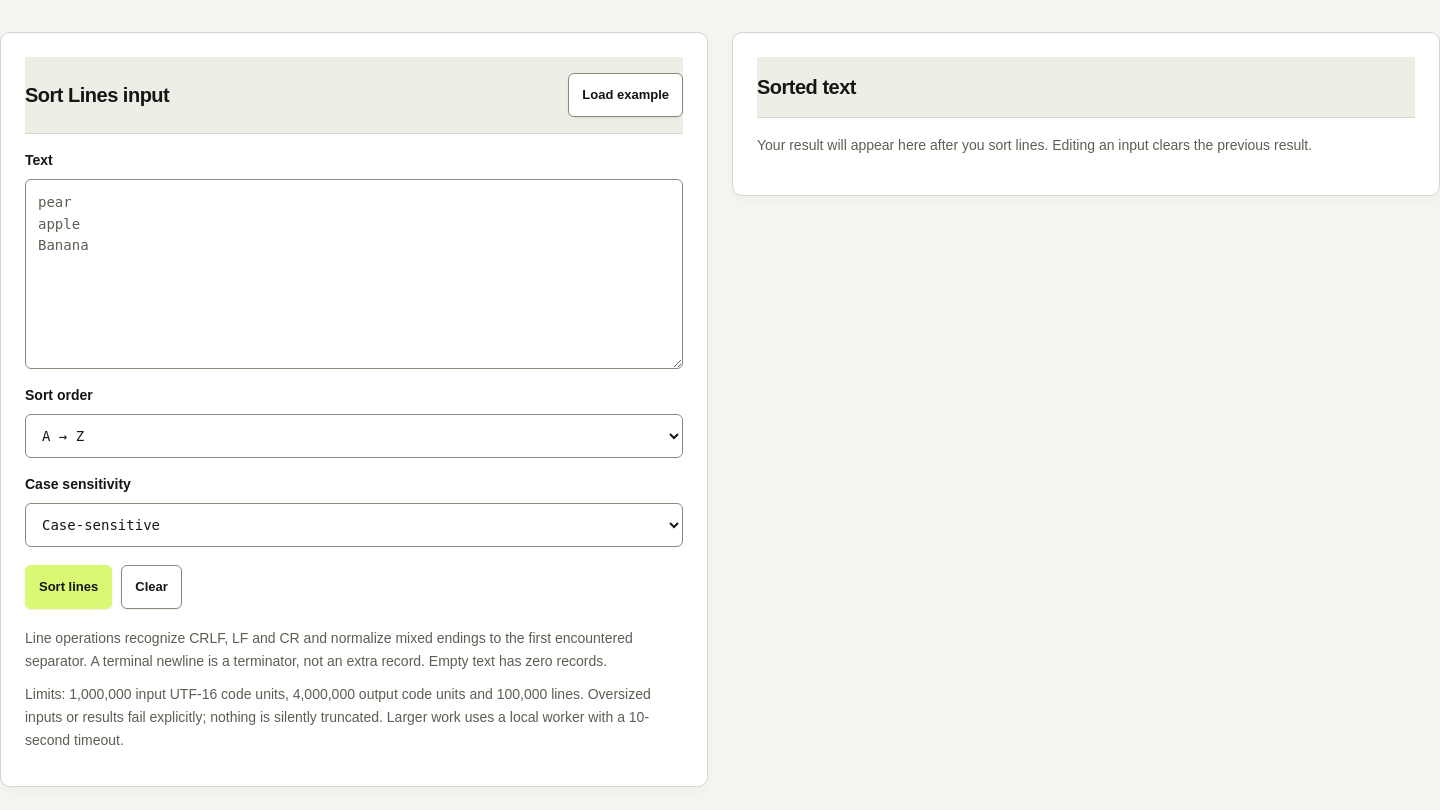
Test: Text light DOM theme (not visual proof) › sort-lines exact fields, keyboard actions, exact visible Copy, full Clear and privacy
Check: the text box labelled "Text" is shown, box [25,179,683,369]
Check: the dropdown labelled "Sort order" is shown, box [25,414,683,458]
Click the button "Load example" at (626, 95), box [568,73,683,117]
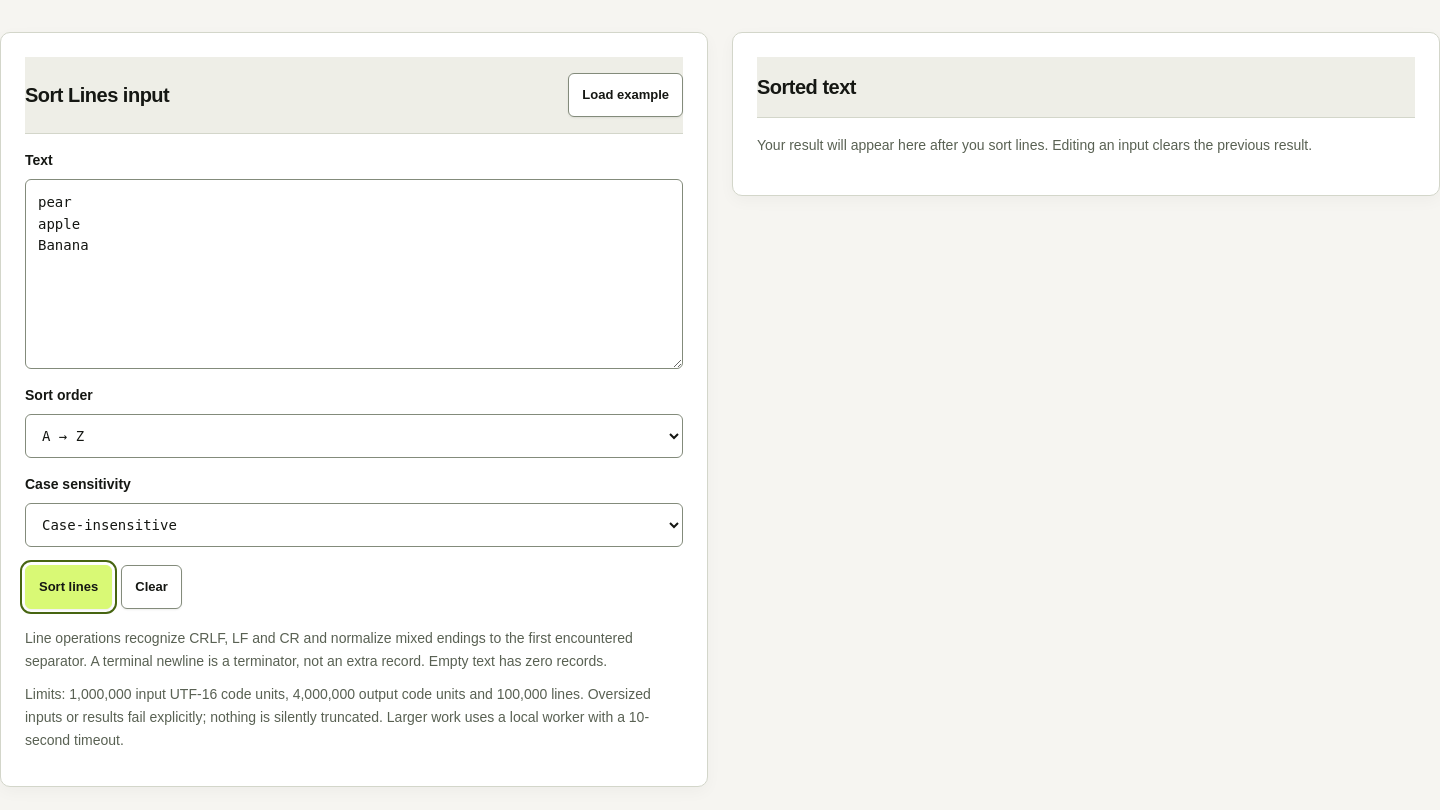
Press Enter
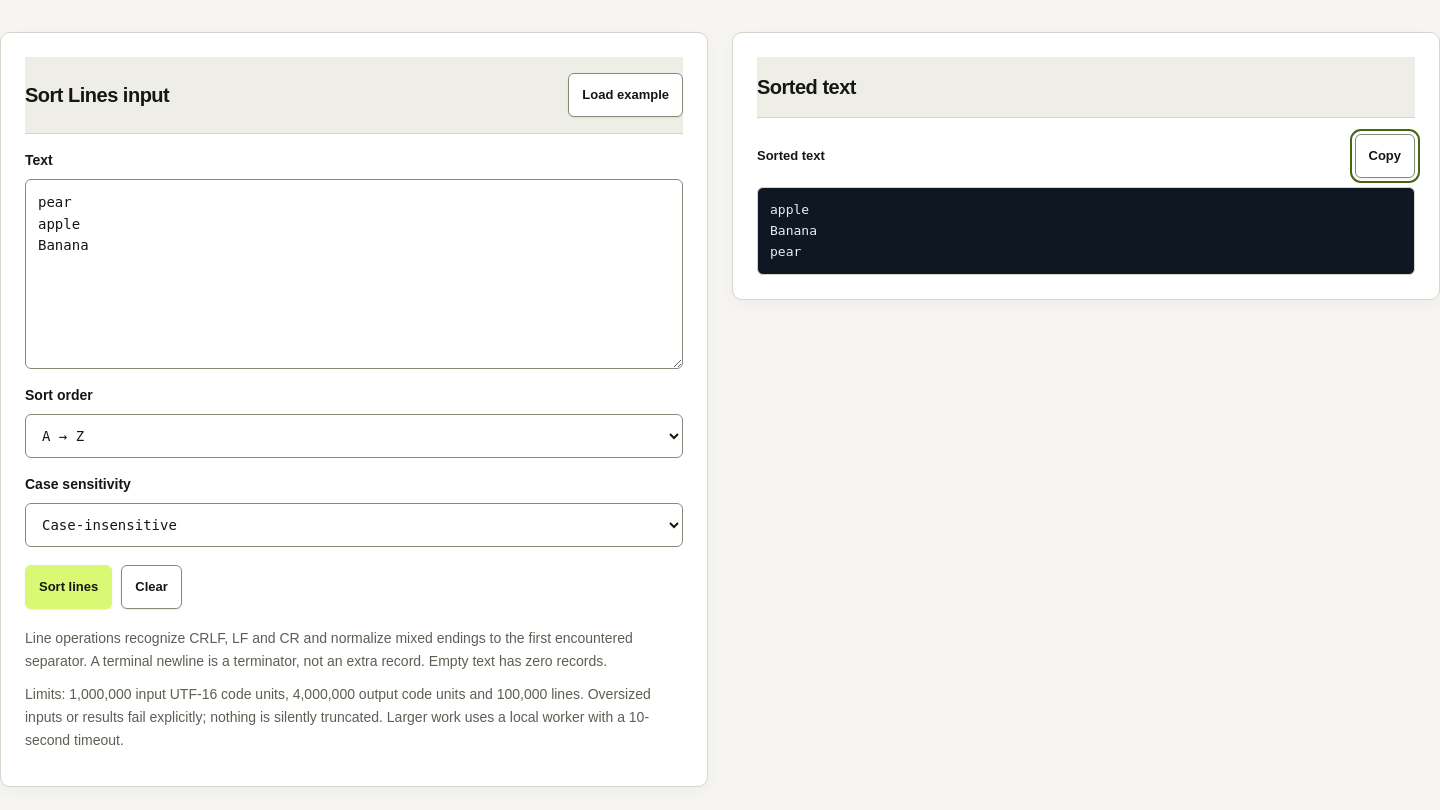
Press Enter
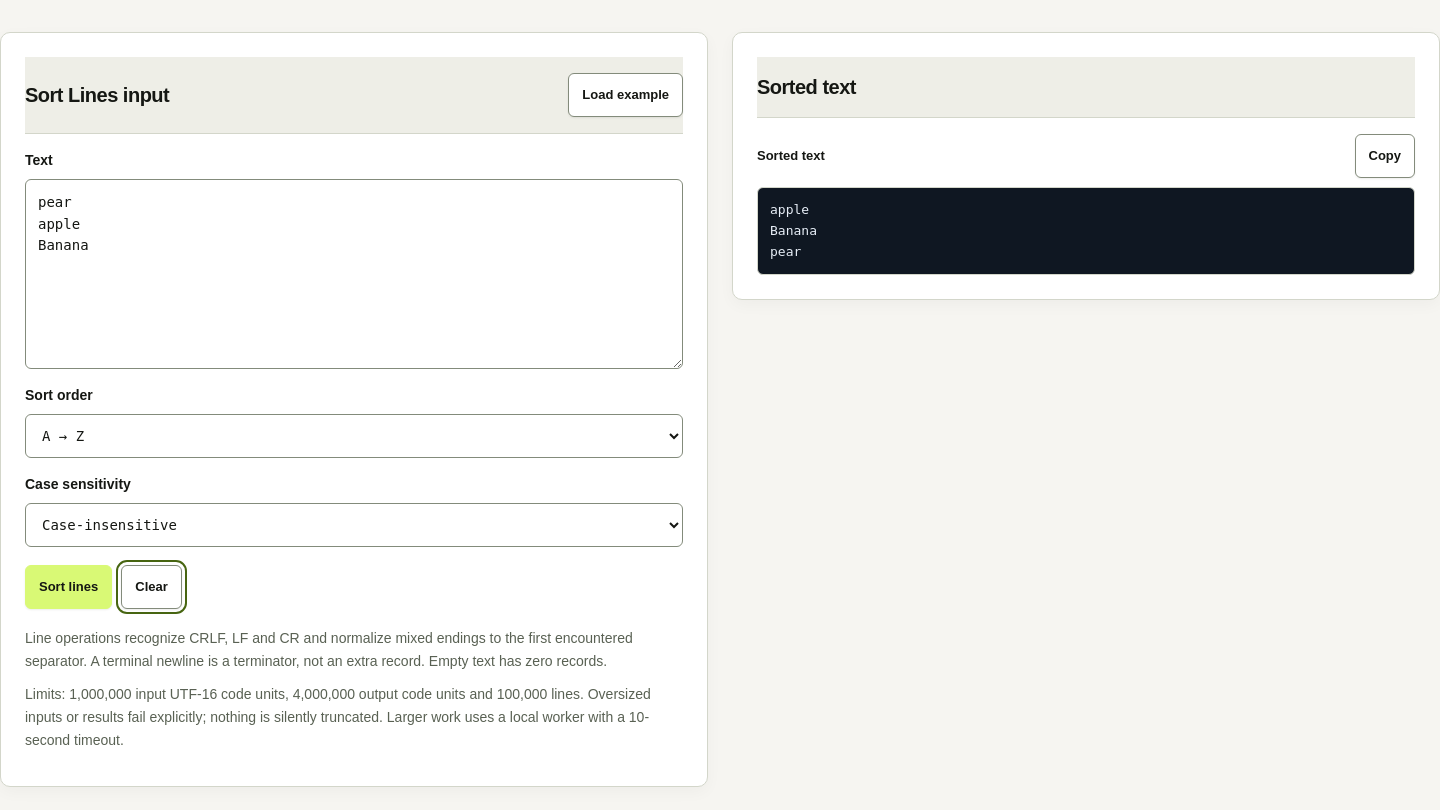
Press Enter
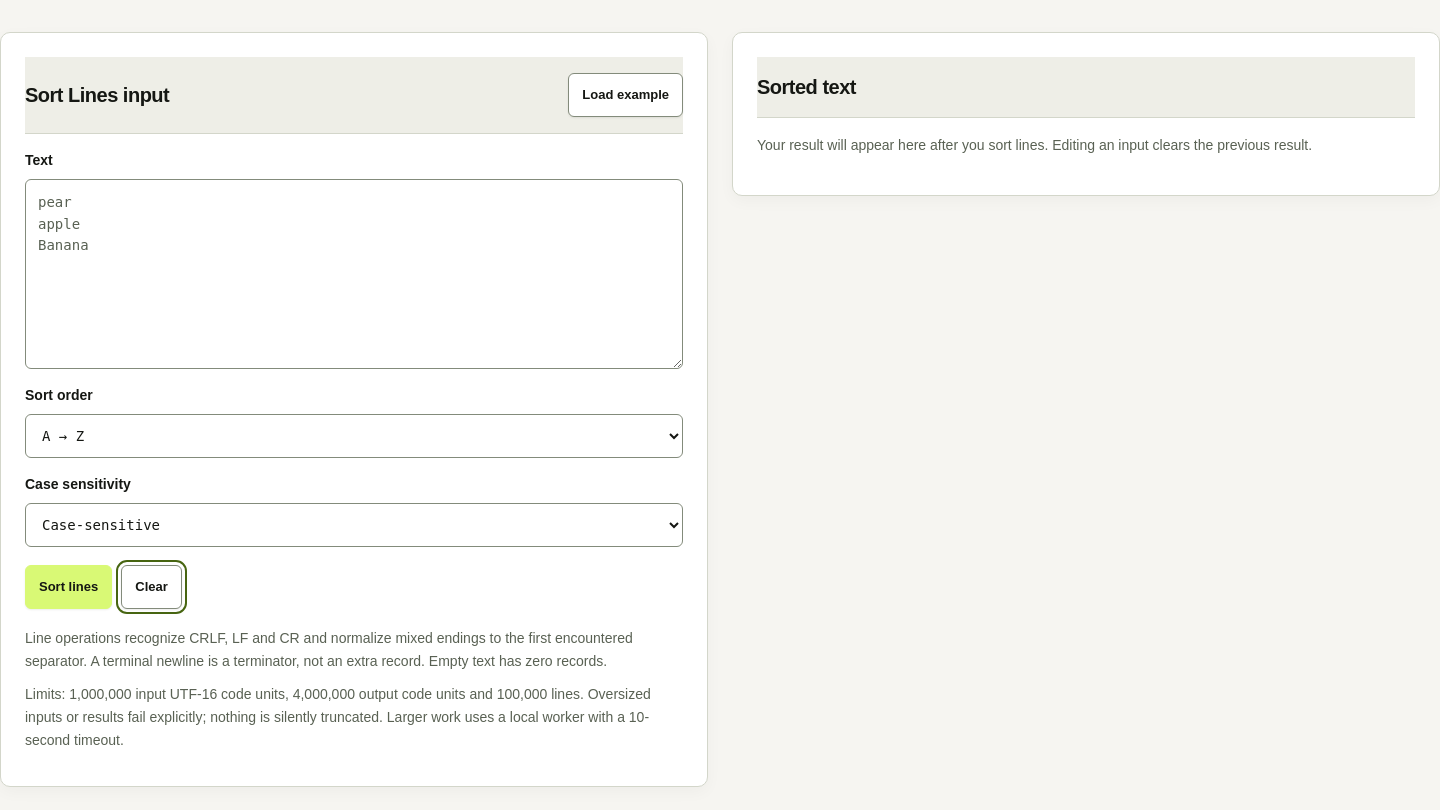
Check: the text box labelled "Text" is empty, box [25,179,683,369]
Check: the dropdown labelled "Case sensitivity" shows "Case-sensitive", box [25,503,683,547]
